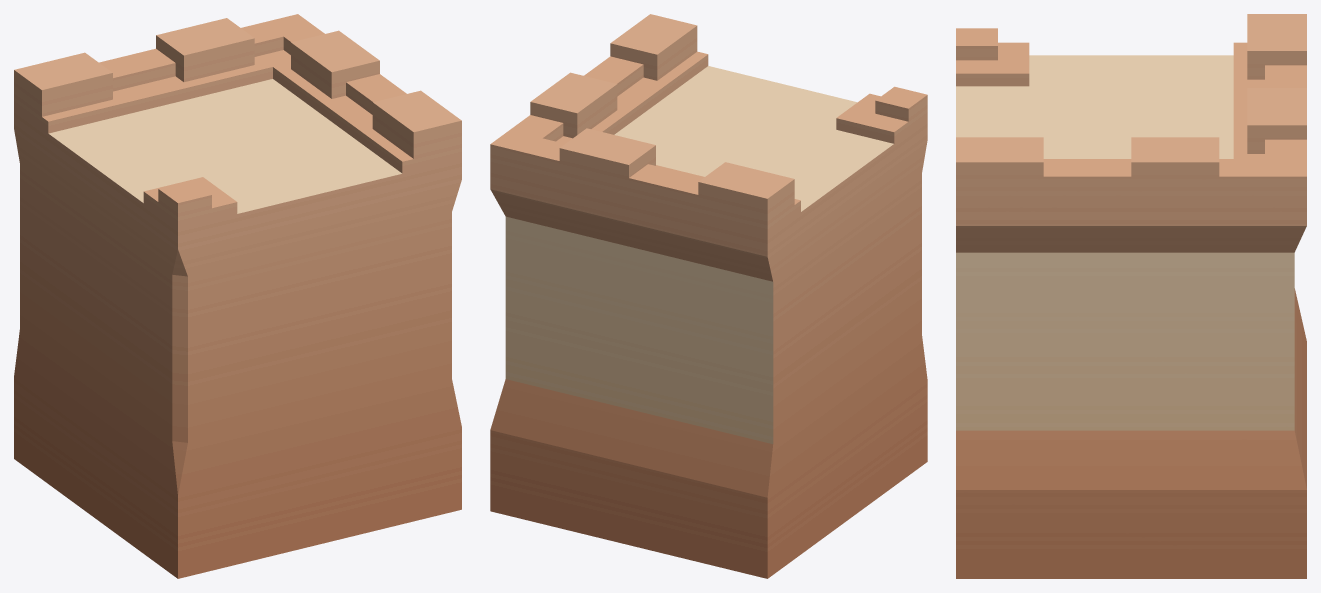
File: wall-corner.glb
3 views of the same model, side by side, from view 1: azimuth 30°, elevation 25°; view 2: azimuth 150°, elevation 25°; view 3: azimuth 270°, elevation 25° (orthographic). The views are drawn at different scales.
Parts seen in each view (by area): view 1: wall-corner; view 2: wall-corner; view 3: wall-corner.
Part boxes in pixels (box(x1,y1,x2,y2)): wall-corner: box(14, 14, 461, 578); wall-corner: box(490, 14, 927, 578); wall-corner: box(956, 14, 1306, 578).
Size of the model in its own units: 1 by 1.31 by 1.
1 material, 1 textured.
